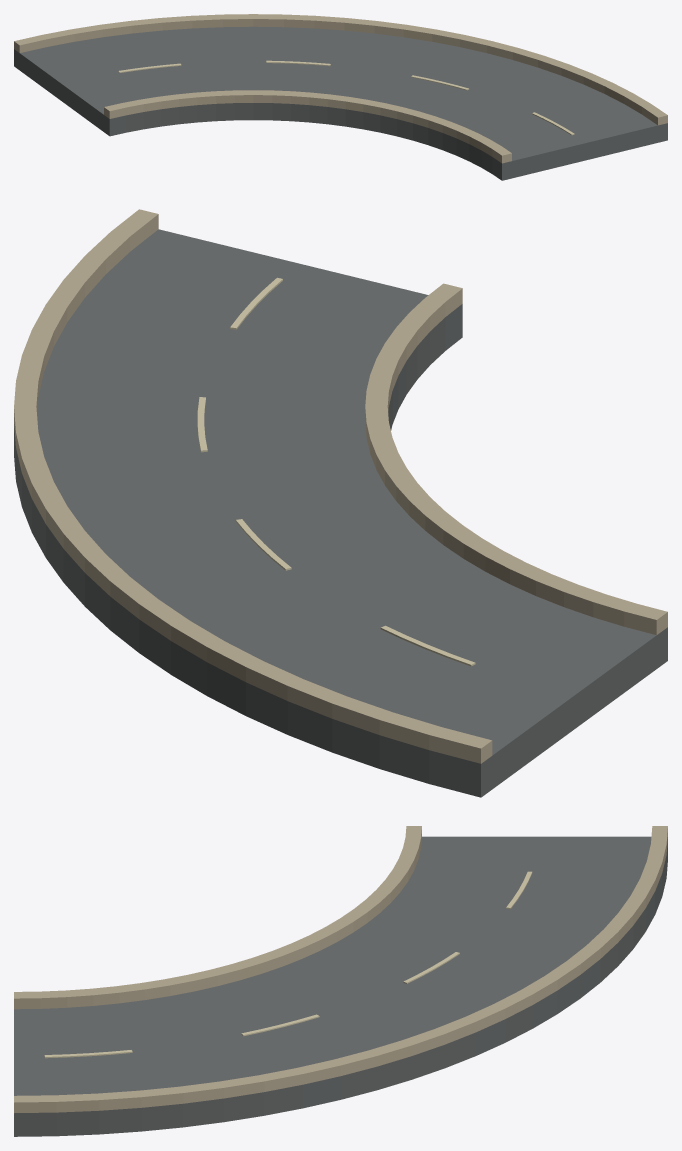
File: coast_turn_90.glb
The picture shows the model from 3 angles, top to bottom: view 1: azimuth 30°, elevation 25°; view 2: azimuth 150°, elevation 25°; view 3: azimuth 270°, elevation 25°; orthographic projection. The views are drawn at different scales.
Parts seen in each view (by area): view 1: coast_turn_90; view 2: coast_turn_90; view 3: coast_turn_90.
Boxes of the visible parts, x1,y1,x2,y2 form: coast_turn_90: [14, 14, 667, 180]; coast_turn_90: [14, 209, 667, 797]; coast_turn_90: [14, 826, 667, 1136].
Size of the model in its own units: 5 by 0.29 by 5.
